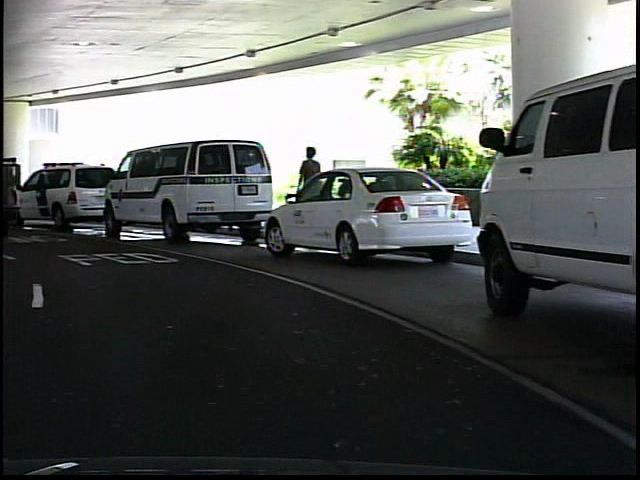person: (290, 143, 324, 231)
